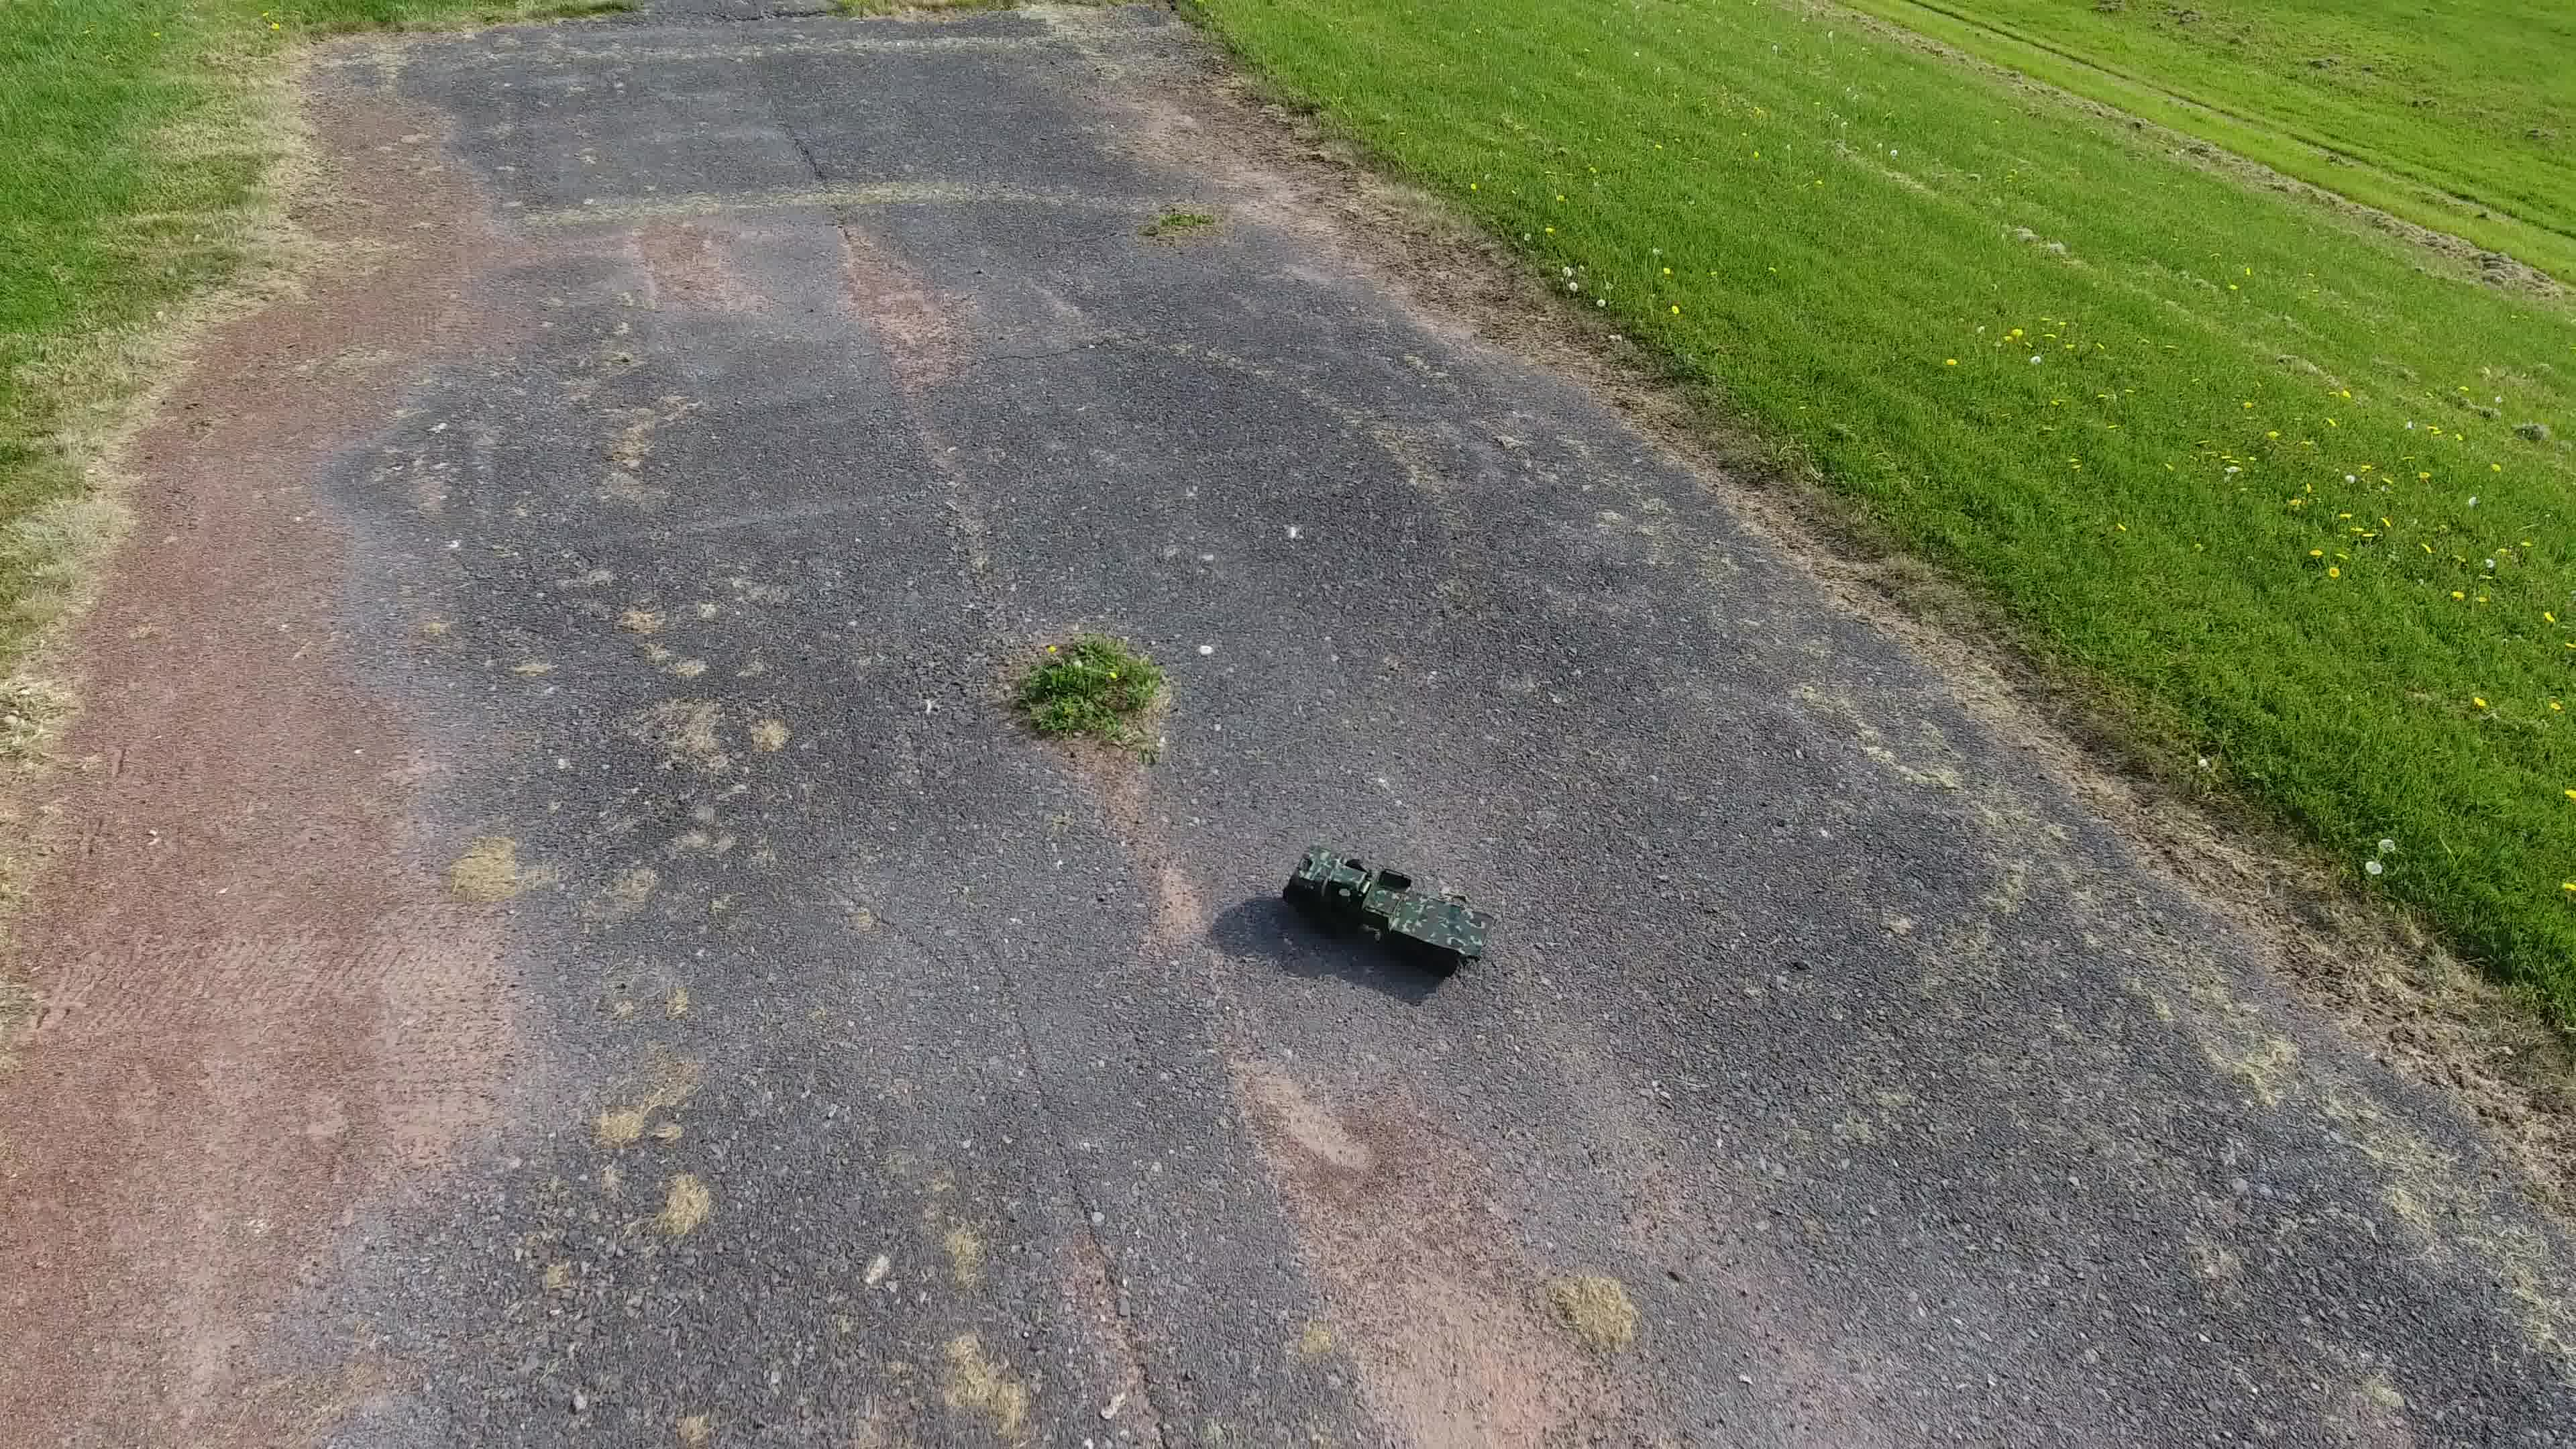transporter9_camo: (1277, 846, 1500, 971)
